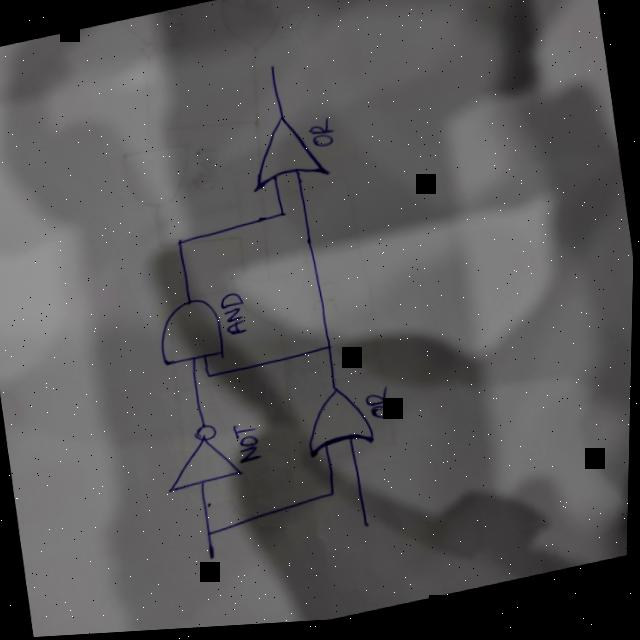junction: (170, 235, 192, 255), (320, 344, 339, 359), (202, 530, 218, 545), (325, 493, 340, 505), (276, 213, 289, 224), (203, 376, 214, 383)
terminal: (263, 65, 280, 80), (361, 524, 374, 537), (207, 554, 220, 566)
text: (218, 293, 250, 343), (231, 425, 264, 469), (365, 390, 397, 428), (307, 121, 336, 156)
